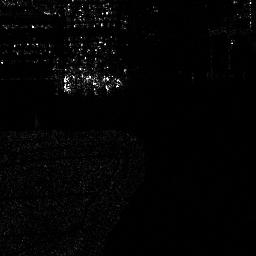ship: (62, 72, 124, 91)
